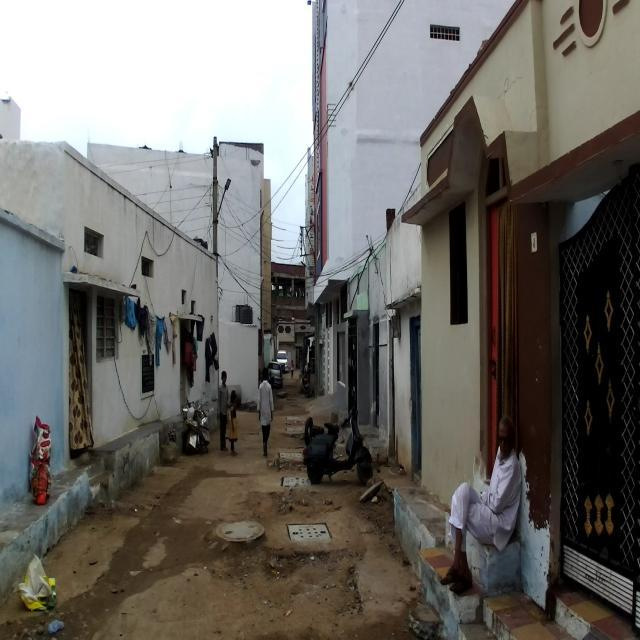pothole: (210, 552, 344, 584)
